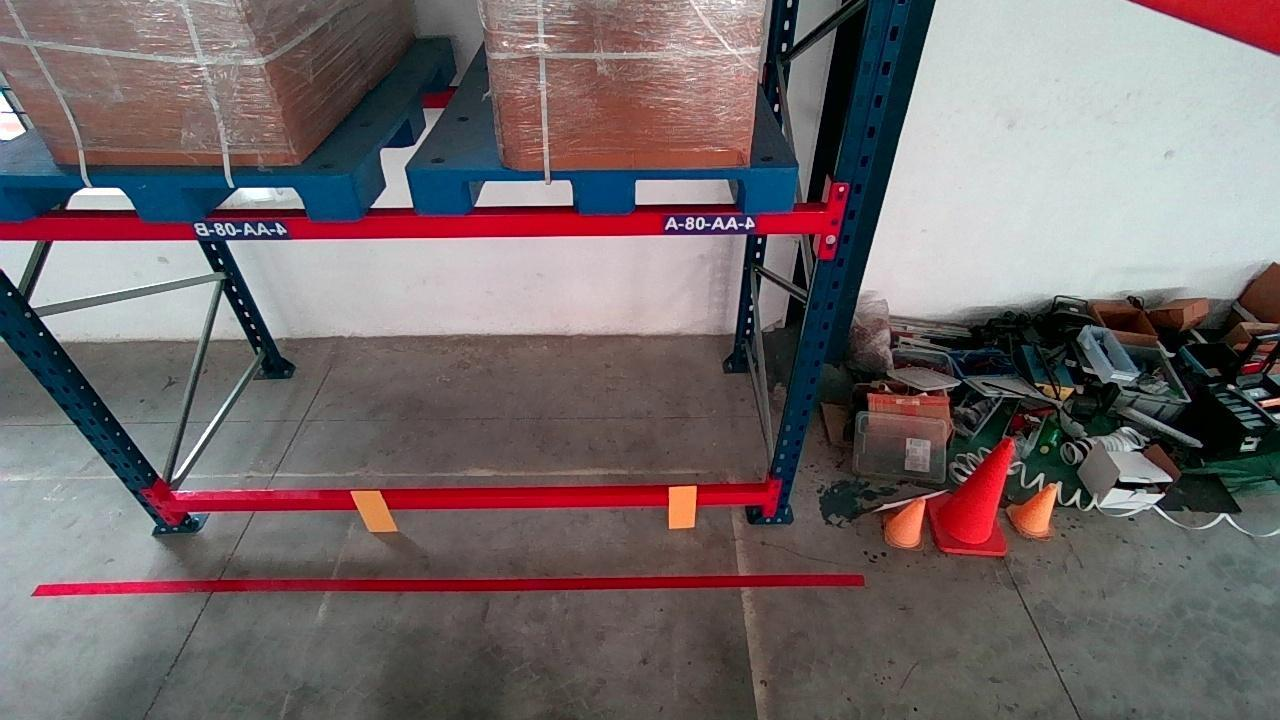h_rack: (9, 208, 825, 241), (171, 483, 765, 516)
orange_strip: (352, 489, 396, 532), (667, 485, 699, 528)
red_line: (36, 573, 858, 603)
small_pallet: (418, 166, 799, 213), (0, 172, 356, 220)
